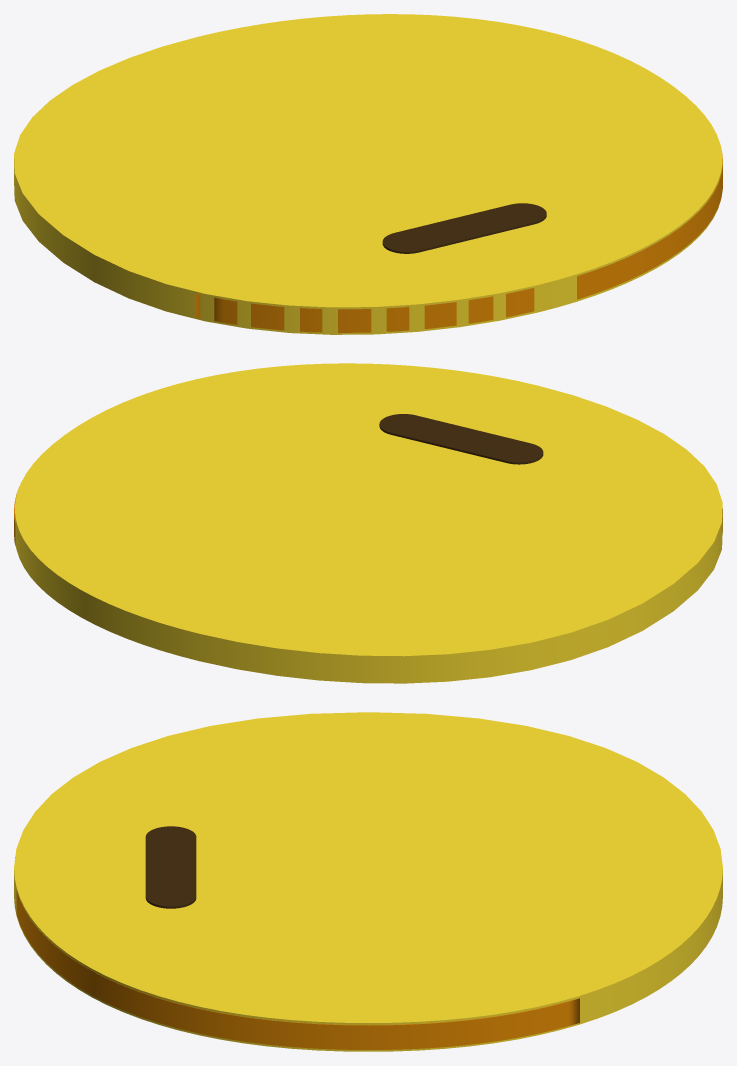
Rendered from emoji_u1f644.glb.
The picture shows the model from 3 angles, top to bottom: view 1: azimuth 30°, elevation 25°; view 2: azimuth 150°, elevation 25°; view 3: azimuth 270°, elevation 25°; orthographic projection. The views are drawn at different scales.
Visible parts, largest first — view 1: emoji_u1f644; view 2: emoji_u1f644; view 3: emoji_u1f644.
Boxes of the visible parts, x1,y1,x2,y2 form: emoji_u1f644: [14, 14, 722, 334]; emoji_u1f644: [14, 363, 722, 683]; emoji_u1f644: [14, 712, 722, 1051].
Size of the model in its own units: 0.0326 by 0.0016 by 0.0314.
